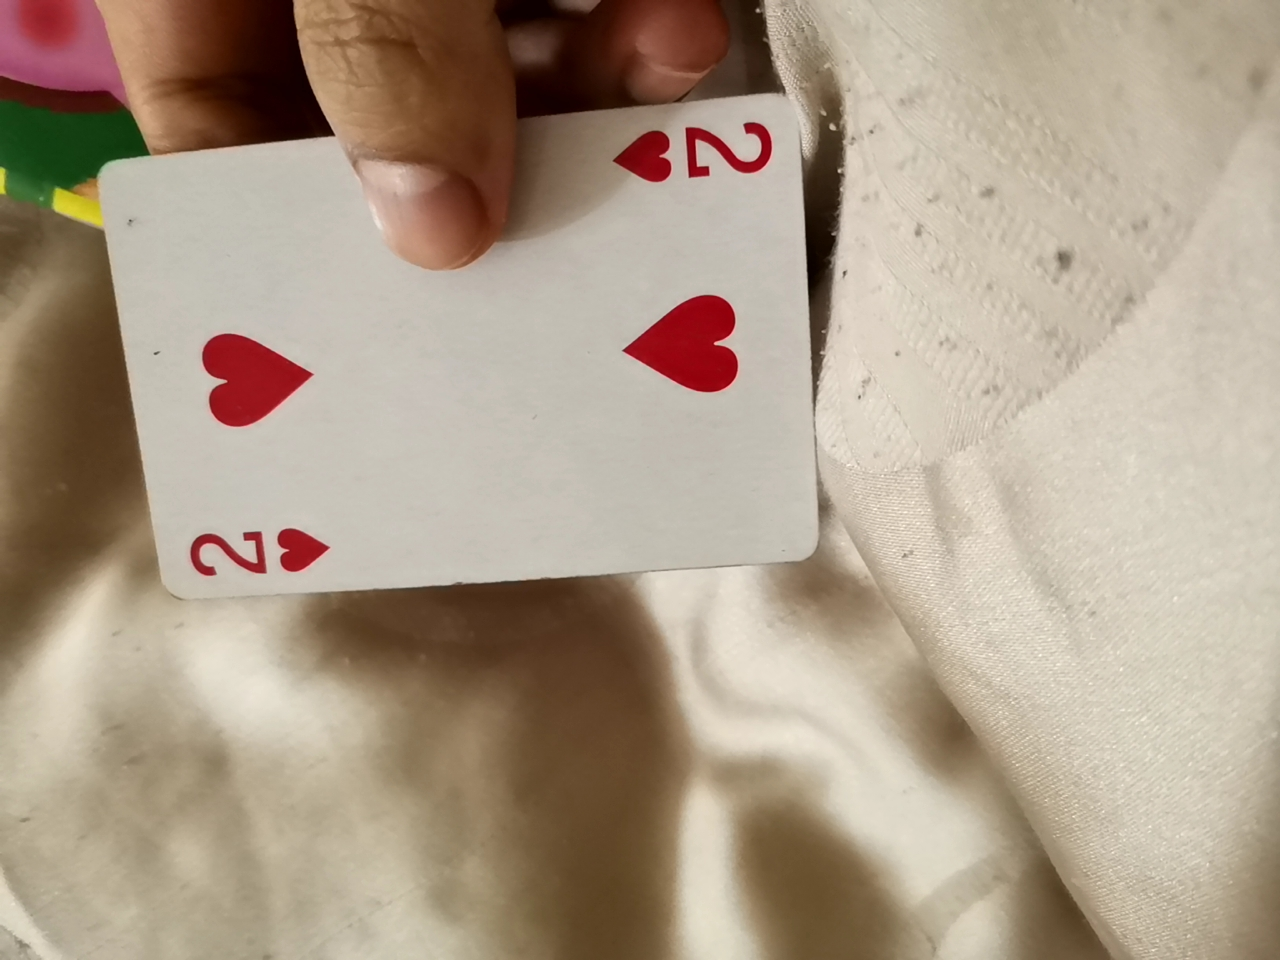hx 2: (70, 99, 823, 605)
